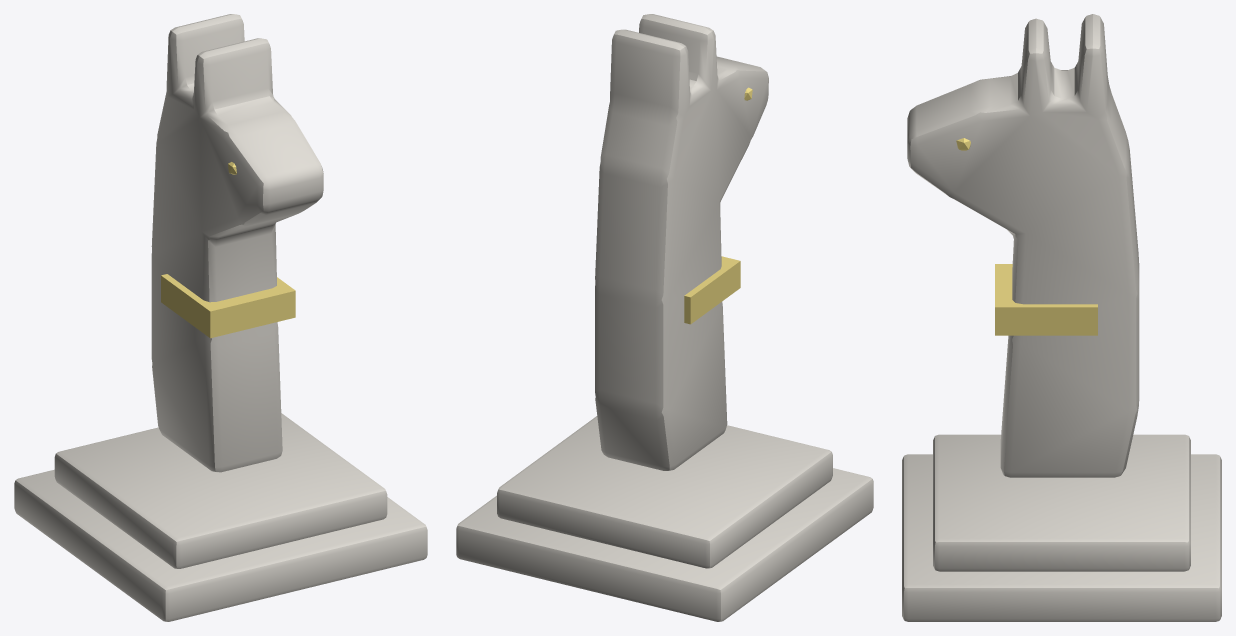
Rendered from MachuPicchu_Caballo.fbx.
The picture shows the model from 3 angles, left to right: view 1: azimuth 30°, elevation 25°; view 2: azimuth 150°, elevation 25°; view 3: azimuth 270°, elevation 25°; orthographic projection. The views are drawn at different scales.
Visible parts, largest first — view 1: MachuPicchu_Caballo; view 2: MachuPicchu_Caballo; view 3: MachuPicchu_Caballo.
Boxes of the visible parts, bbox=[...] form: MachuPicchu_Caballo: bbox=[14, 14, 427, 621]; MachuPicchu_Caballo: bbox=[456, 14, 873, 621]; MachuPicchu_Caballo: bbox=[902, 14, 1221, 621].
Bounding box in the file's own units: 0.62 × 1.13 × 0.62.
